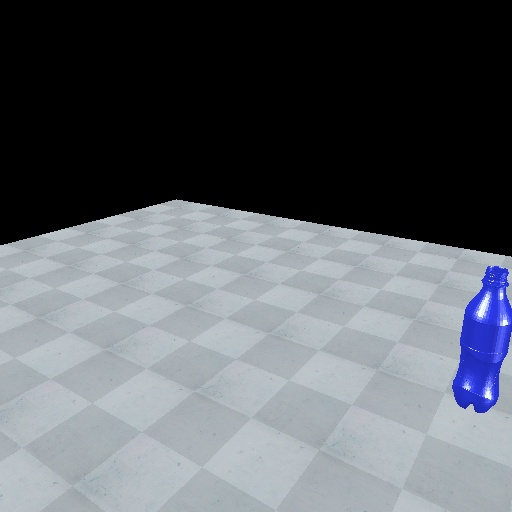bottle: (449, 264, 512, 415)
